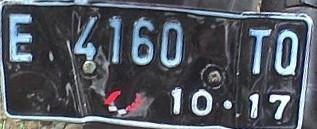clone-license-plate: (0, 0, 306, 128)
